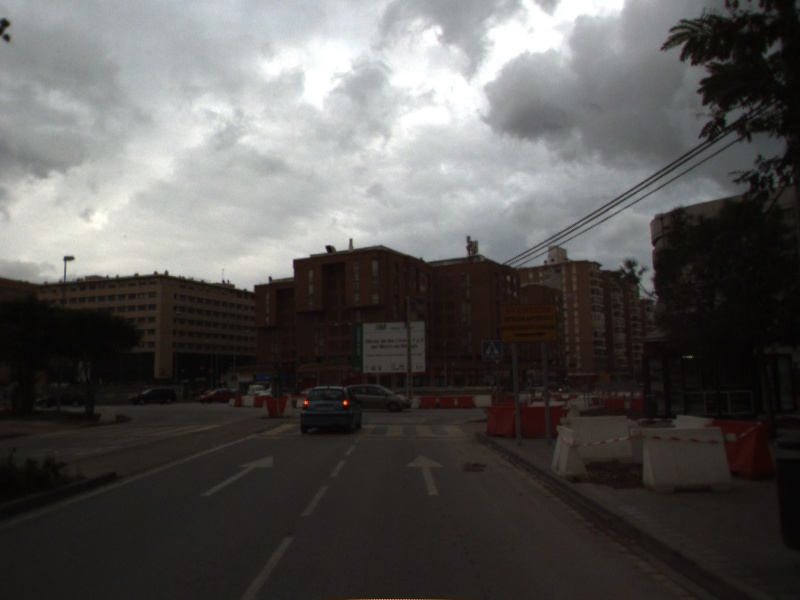STRAIGHT: (198, 452, 276, 498), (404, 451, 447, 497)
